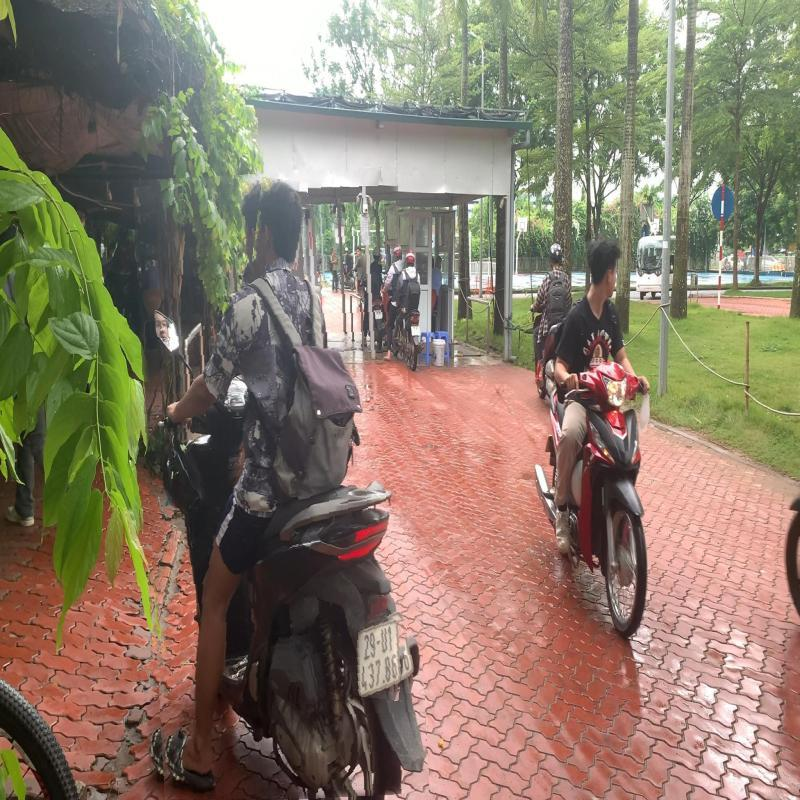licenseplate: (354, 615, 406, 700)
motorcyclist: (140, 169, 421, 800)
nohelmet: (254, 178, 306, 269)
